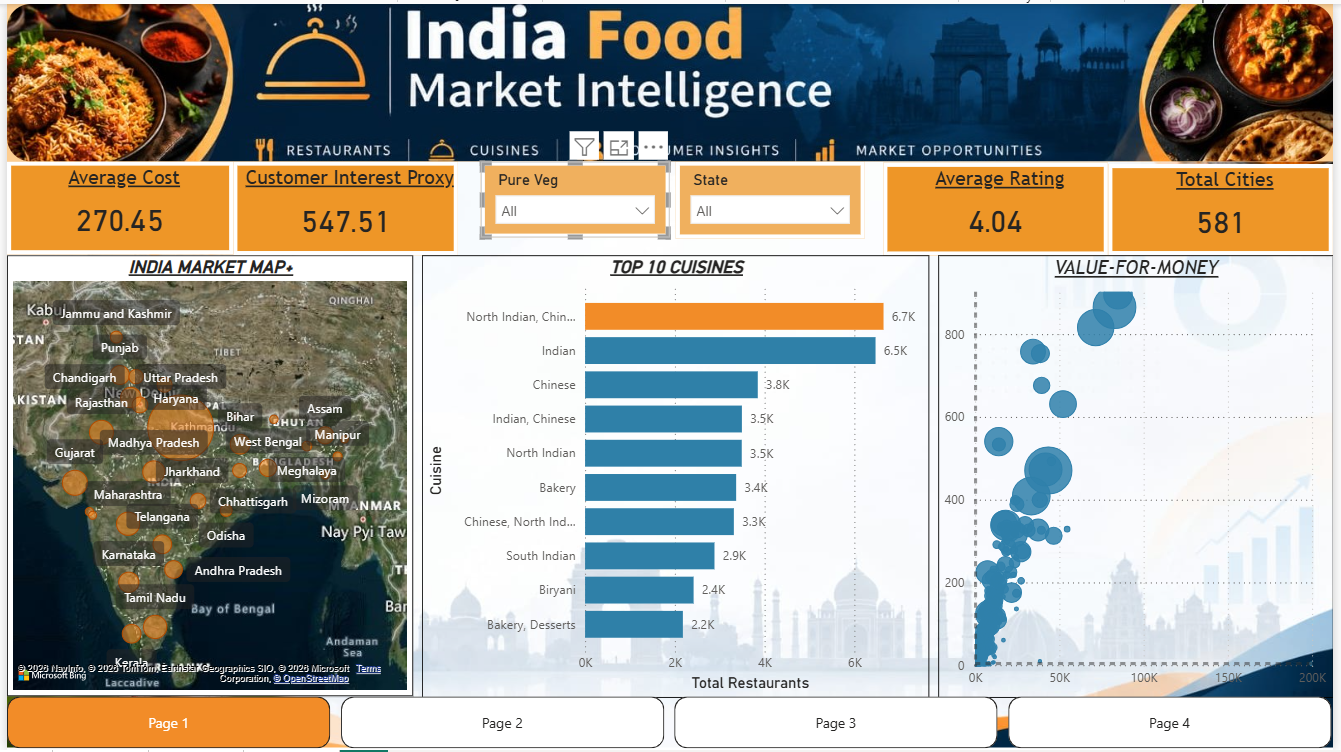

What the dashboard file says about the page in this screenshot:
{"tool":"powerbi","page":{"name":"Page 1","canvas":[1280,720],"ordinal":0},"visuals":[{"type":"slicer","fields":{"Values":["PowerBI_Swiggy_Master.Pure Veg"]},"box":[457.2,152,182.2,73.6],"z":1000},{"type":"slicer","fields":{"Values":["PowerBI_Swiggy_Master.State"]},"box":[645.4,152,182.2,74.8],"z":2000},{"type":"card","title":"Total Restaurants","fields":{"Values":["PowerBI_Swiggy_Master.Total Restaurants"]},"box":[51.4,283.7,217.7,118.6],"z":3000},{"type":"card","title":"Average Cost","fields":{"Values":["PowerBI_Swiggy_Master.Avg Cost"]},"box":[0,152,218.4,89.3],"z":4000},{"type":"card","title":"Average Rating","fields":{"Values":["PowerBI_Swiggy_Master.Avg Rating"]},"box":[845.7,153.2,217.2,89.3],"z":5000},{"type":"card","title":"Customer Interest Proxy","fields":{"Values":["PowerBI_Swiggy_Master.Customer Interest Proxy"]},"box":[218.4,152,217.2,90.5],"z":6000},{"type":"card","title":"Total Cities","fields":{"Values":["PowerBI_Swiggy_Master.Total Cities"]},"box":[1062.9,154.4,217.2,88.1],"z":7000},{"type":"map","title":"INDIA MARKET MAP+","fields":{"Category":["PowerBI_Swiggy_Master.State"],"Size":["PowerBI_Swiggy_Master.Total Restaurants"]},"box":[0,242.5,392.1,425.9],"z":8000},{"type":"barChart","title":"TOP 10 CUISINES","fields":{"Category":["PowerBI_Swiggy_Master.Cuisine"],"Y":["PowerBI_Swiggy_Master.Total Restaurants"]},"box":[400.5,242.5,489.8,427.1],"z":9000},{"type":"scatterChart","title":"VALUE-FOR-MONEY ","fields":{"Category":["PowerBI_Swiggy_Master.Restaurant Name"],"X":["Sum(PowerBI_Swiggy_Master.cost_for_two)"],"Y":["Sum(PowerBI_Swiggy_Master.rating_clean)"],"Size":["Sum(PowerBI_Swiggy_Master.votes_clean)"]},"box":[898.8,242.5,381.2,427.1],"z":10000},{"type":"pageNavigator","box":[0,668.4,1280,50.7],"z":11000},{"type":"image","box":[0,0,1280,152],"z":12000}]}

Visuals, with their boxes in screenshot pixels (x1, y1, x2, y2), scaled from the page's 1280x720 canvas onto the 1341x752 screenshot:
slicer - PowerBI_Swiggy_Master.Pure Veg: [479,159,670,236]
slicer - PowerBI_Swiggy_Master.State: [676,159,867,237]
"Total Restaurants" card: [54,296,282,420]
"Average Cost" card: [0,159,229,252]
"Average Rating" card: [886,160,1114,253]
"Customer Interest Proxy" card: [229,159,456,253]
"Total Cities" card: [1114,161,1340,253]
"INDIA MARKET MAP+" map: [0,253,411,698]
"TOP 10 CUISINES" barChart: [420,253,933,699]
"VALUE-FOR-MONEY " scatterChart: [942,253,1340,699]
pageNavigator: [0,698,1340,751]
image: [0,0,1340,159]
